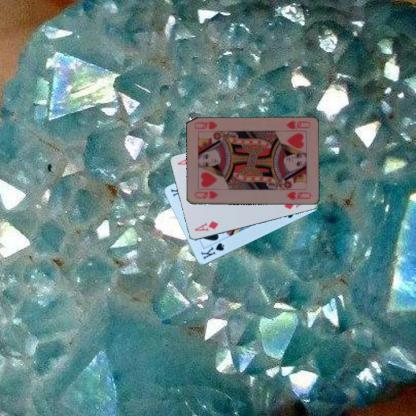Ad: (192, 218, 219, 233)
Ks: (198, 240, 226, 260)
Qh: (282, 118, 312, 133), (191, 188, 219, 200)
